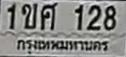1: (74, 4, 82, 29), (7, 3, 15, 28)
2: (86, 4, 100, 29)
8: (103, 4, 115, 29)
A02: (21, 2, 37, 28)
A38: (40, 2, 56, 30)
BKK: (14, 37, 110, 55)
